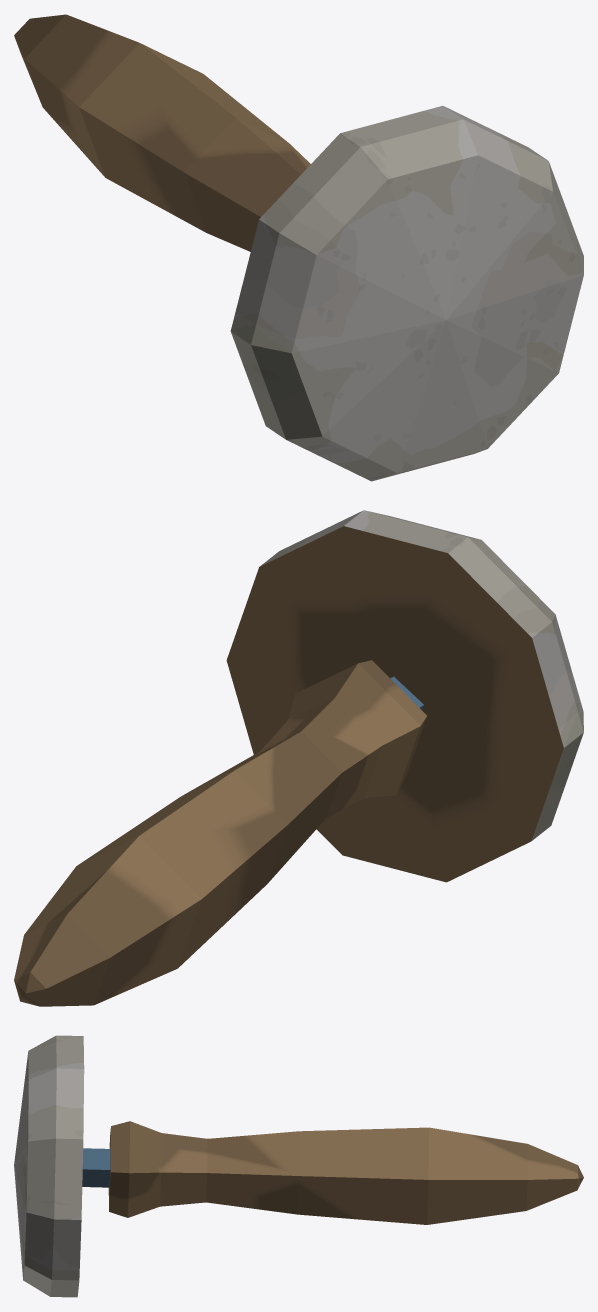
File: SM_Prop_Shock_Pad_01.fbx
3 renders of one model, top to bottom at view 1: azimuth 30°, elevation 25°; view 2: azimuth 150°, elevation 25°; view 3: azimuth 270°, elevation 25°, orthographic. The views are drawn at different scales.
Visible parts, largest first — view 1: SM_Prop_Shock_Pad_01; view 2: SM_Prop_Shock_Pad_01; view 3: SM_Prop_Shock_Pad_01.
Part boxes in pixels (<box>): SM_Prop_Shock_Pad_01: <box>14,14,583,481</box>; SM_Prop_Shock_Pad_01: <box>14,510,583,1006</box>; SM_Prop_Shock_Pad_01: <box>14,1035,583,1297</box>.
Size of the model in its own units: 17.16 by 16.45 by 37.18.
